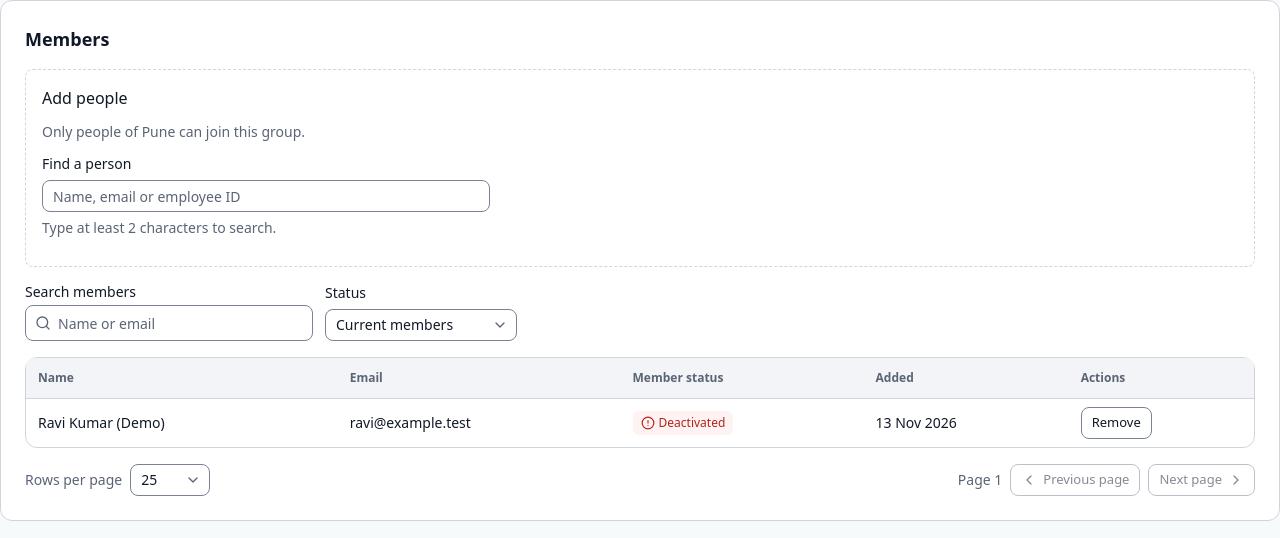
Test case: GroupMembers › the history shows when and why each person was removed
Click the dropdown named "Status".
click(421, 325)  # box x1=325 y1=309 x2=517 y2=341
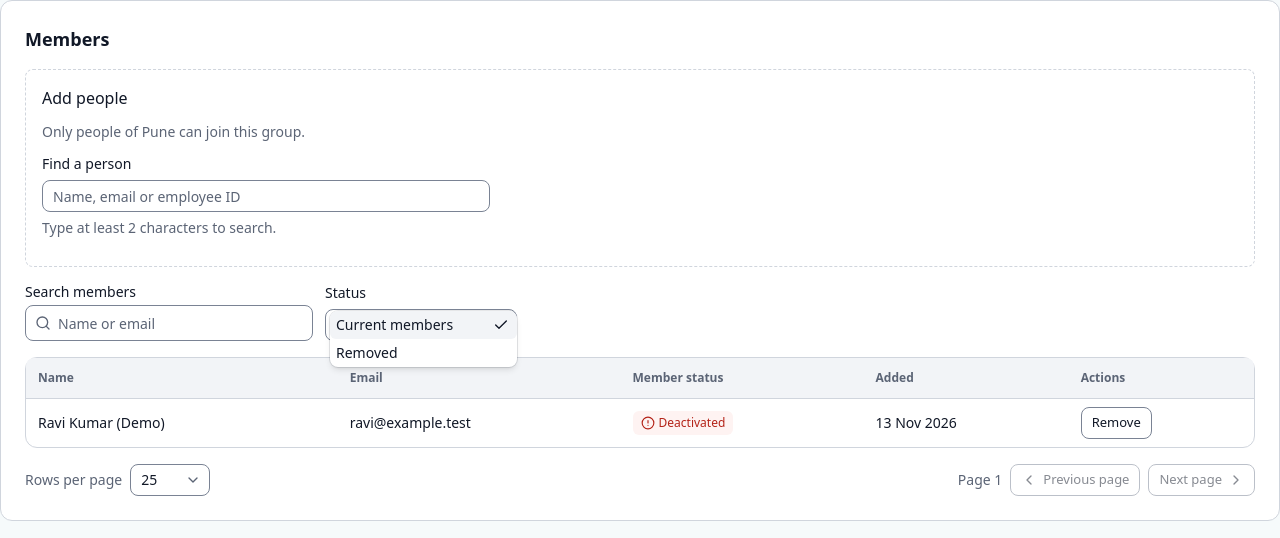
Click the option "Removed".
click(367, 352)  # box x1=336 y1=343 x2=398 y2=362
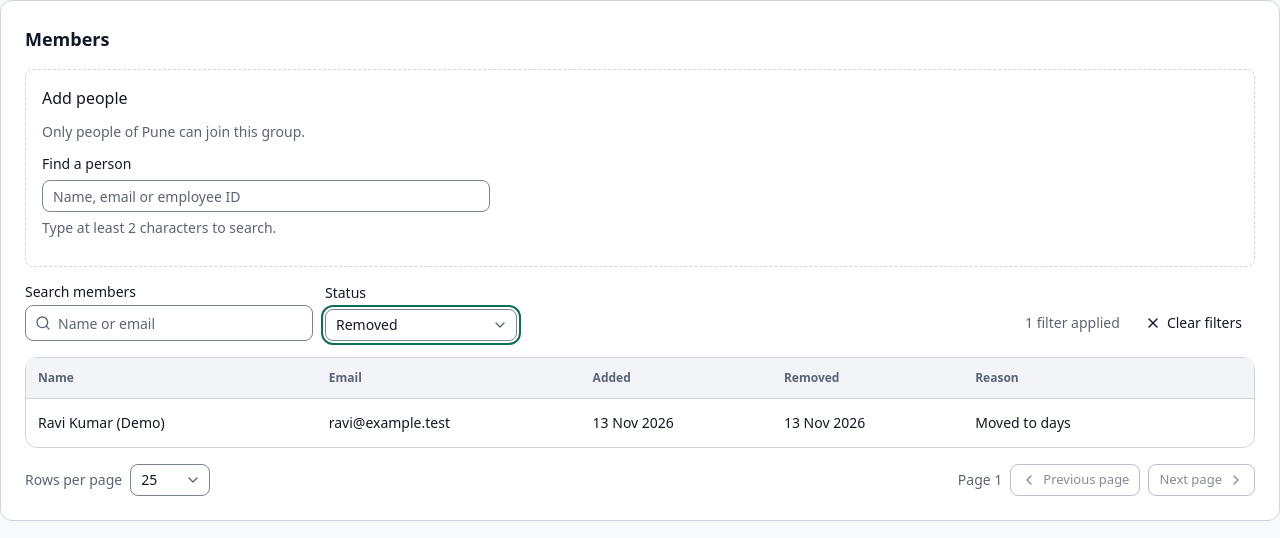
Result: the table shows "Moved to days" at x1=975 y1=412 x2=1071 y2=432
